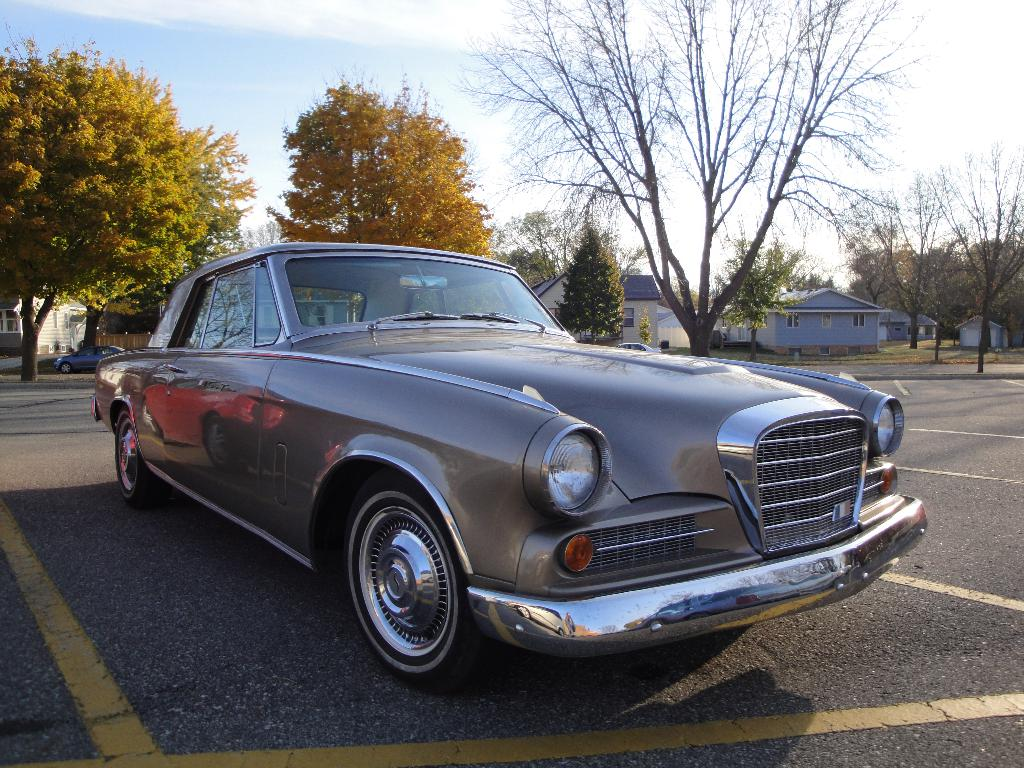Car: (90, 241, 921, 690), (53, 344, 128, 374), (611, 341, 663, 354)
